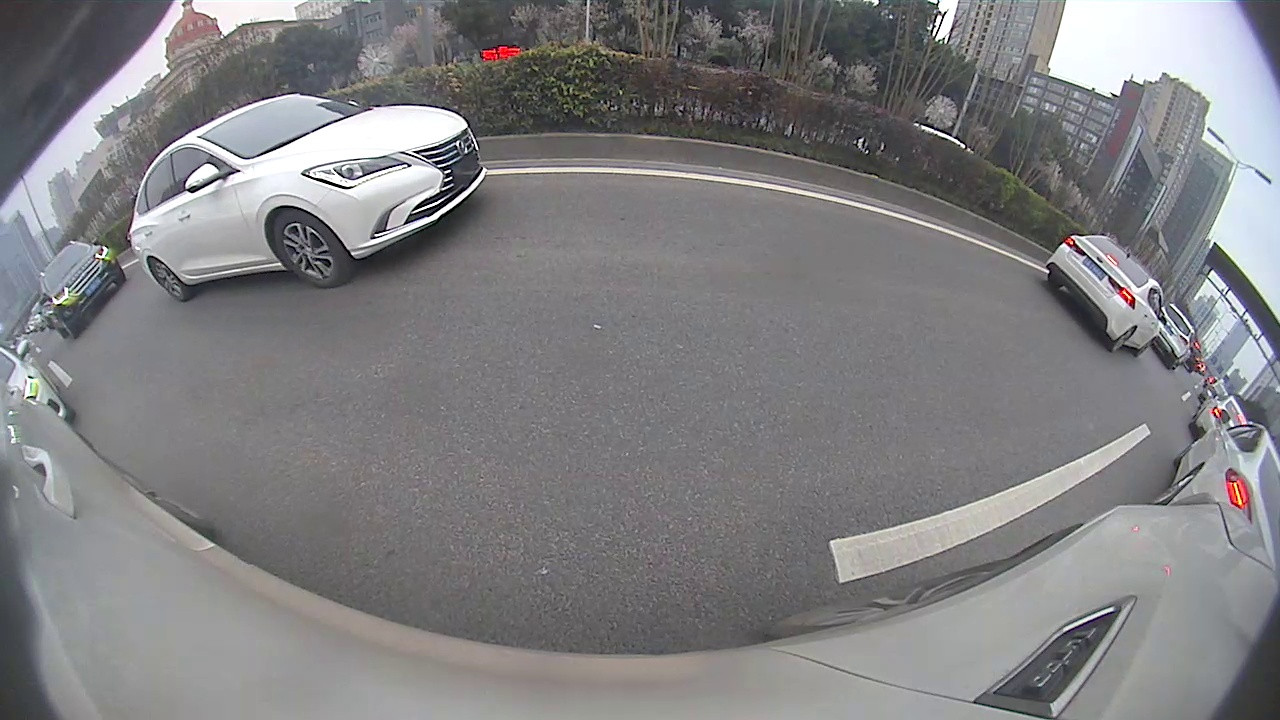car: (127, 90, 489, 304), (1151, 407, 1277, 541), (1044, 232, 1169, 358), (33, 241, 127, 341)
front: (272, 209, 353, 291)
rear: (148, 256, 188, 303), (1110, 326, 1136, 356)
